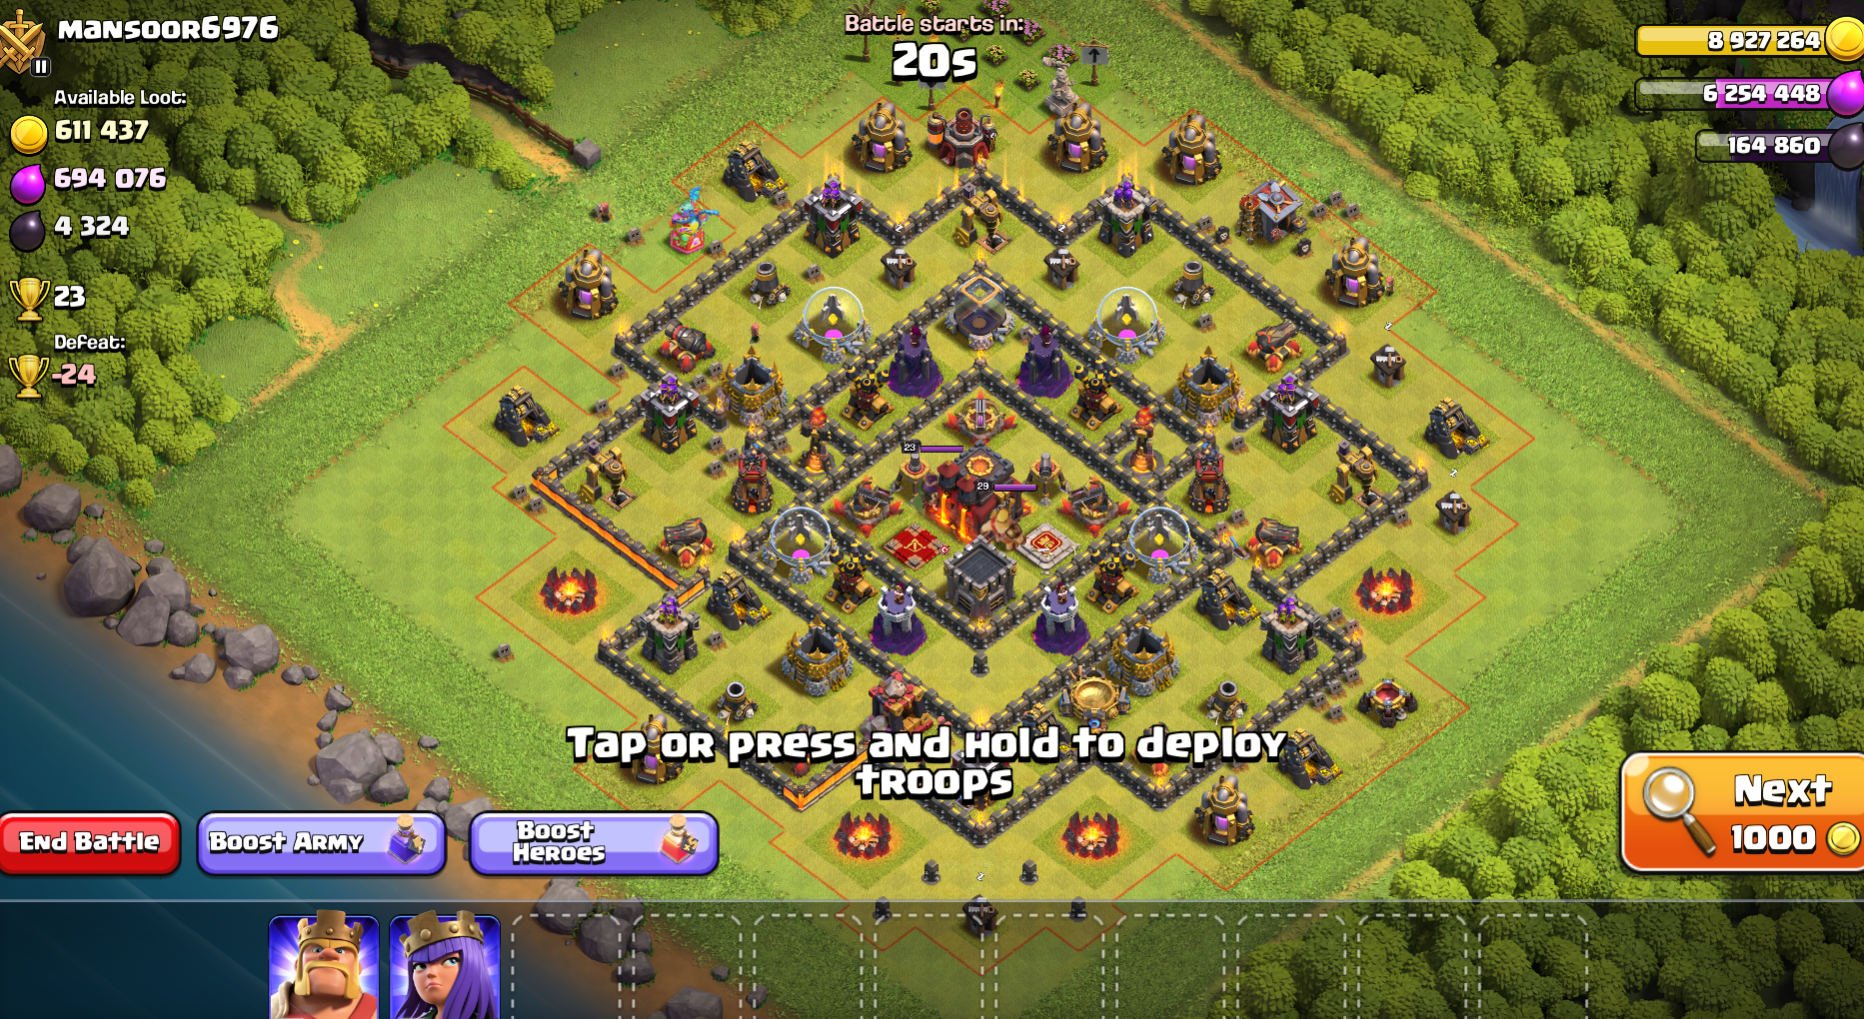dark_elixir_colector: (1322, 435, 1394, 527), (947, 178, 1021, 265), (571, 439, 640, 517)
elixir_colector: (1187, 773, 1266, 865), (615, 710, 692, 792), (1155, 102, 1229, 187), (1322, 231, 1395, 310), (551, 246, 623, 320), (1042, 99, 1110, 177), (850, 99, 912, 181)
gold_mine: (1412, 394, 1496, 467), (1271, 720, 1342, 798), (1189, 558, 1257, 638), (714, 133, 785, 207), (700, 562, 770, 638), (483, 376, 554, 448)
